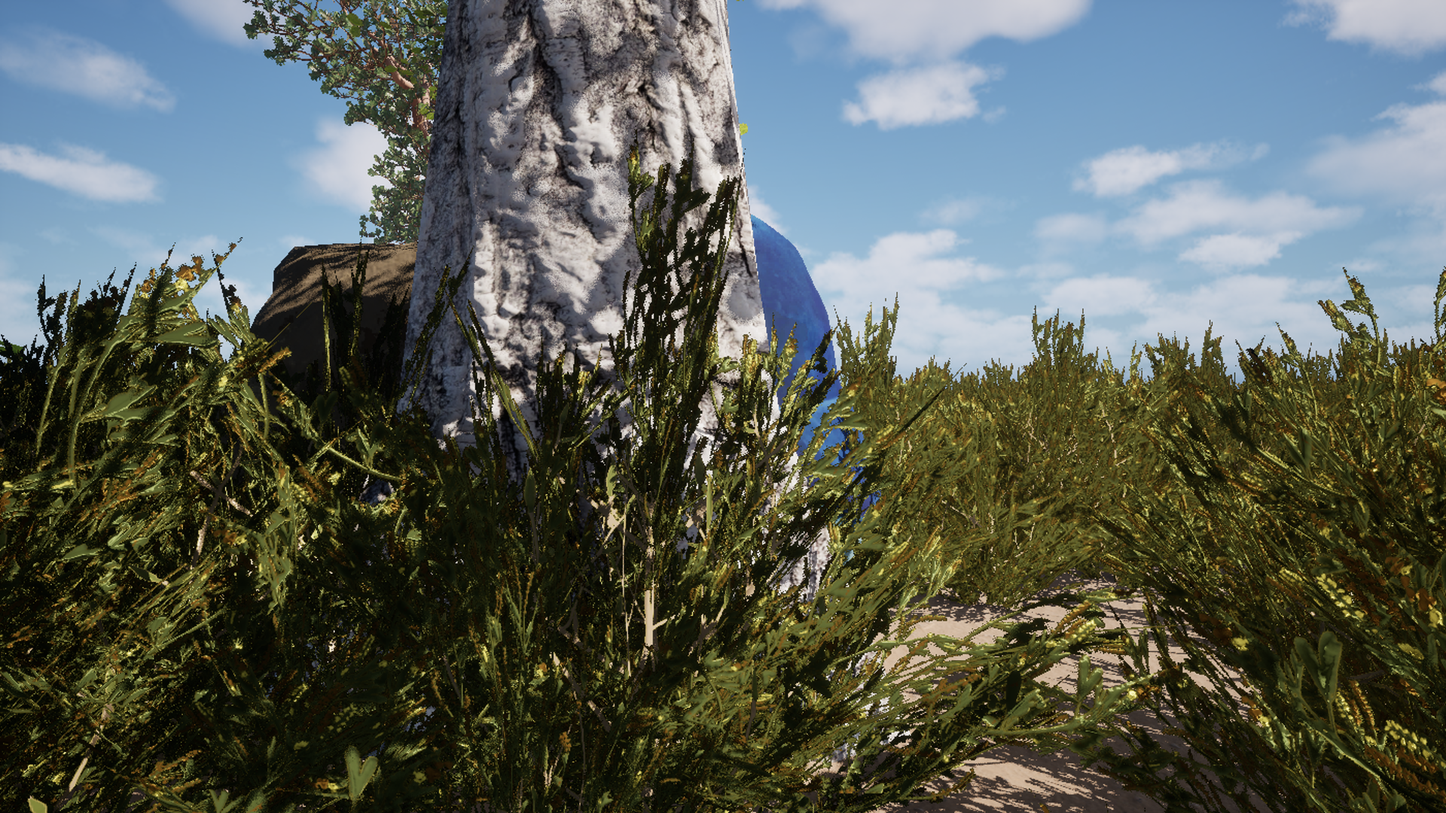Piplup: (285, 0, 1052, 813)
